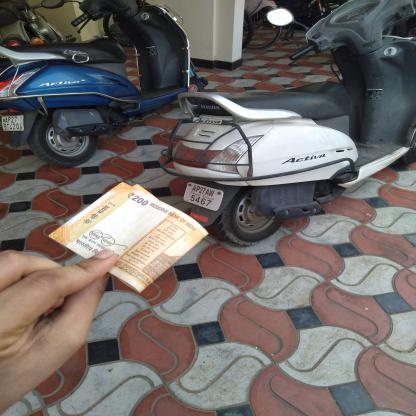New200Back: (51, 186, 201, 288)
